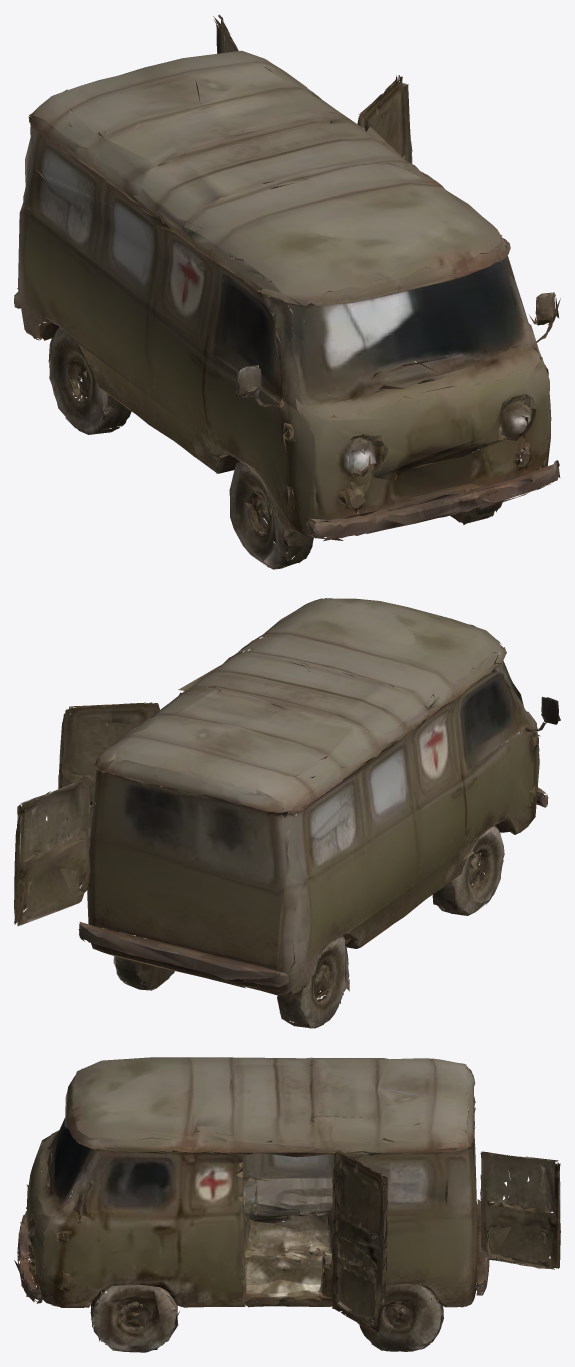
The model's file is car_uaz_open.glb.
3 renders of one model, top to bottom at view 1: azimuth 30°, elevation 25°; view 2: azimuth 150°, elevation 25°; view 3: azimuth 270°, elevation 25°, orthographic. The views are drawn at different scales.
Visible parts, largest first — view 1: model; view 2: model; view 3: model.
Boxes of the visible parts, x1=… form: model: x1=14, y1=14, x2=560, y2=569; model: x1=14, y1=598, x2=560, y2=1028; model: x1=14, y1=1057, x2=560, y2=1352.
Bounding box in the file's own units: 1.13 × 0.8778 × 1.91.
1 material, 1 textured.
